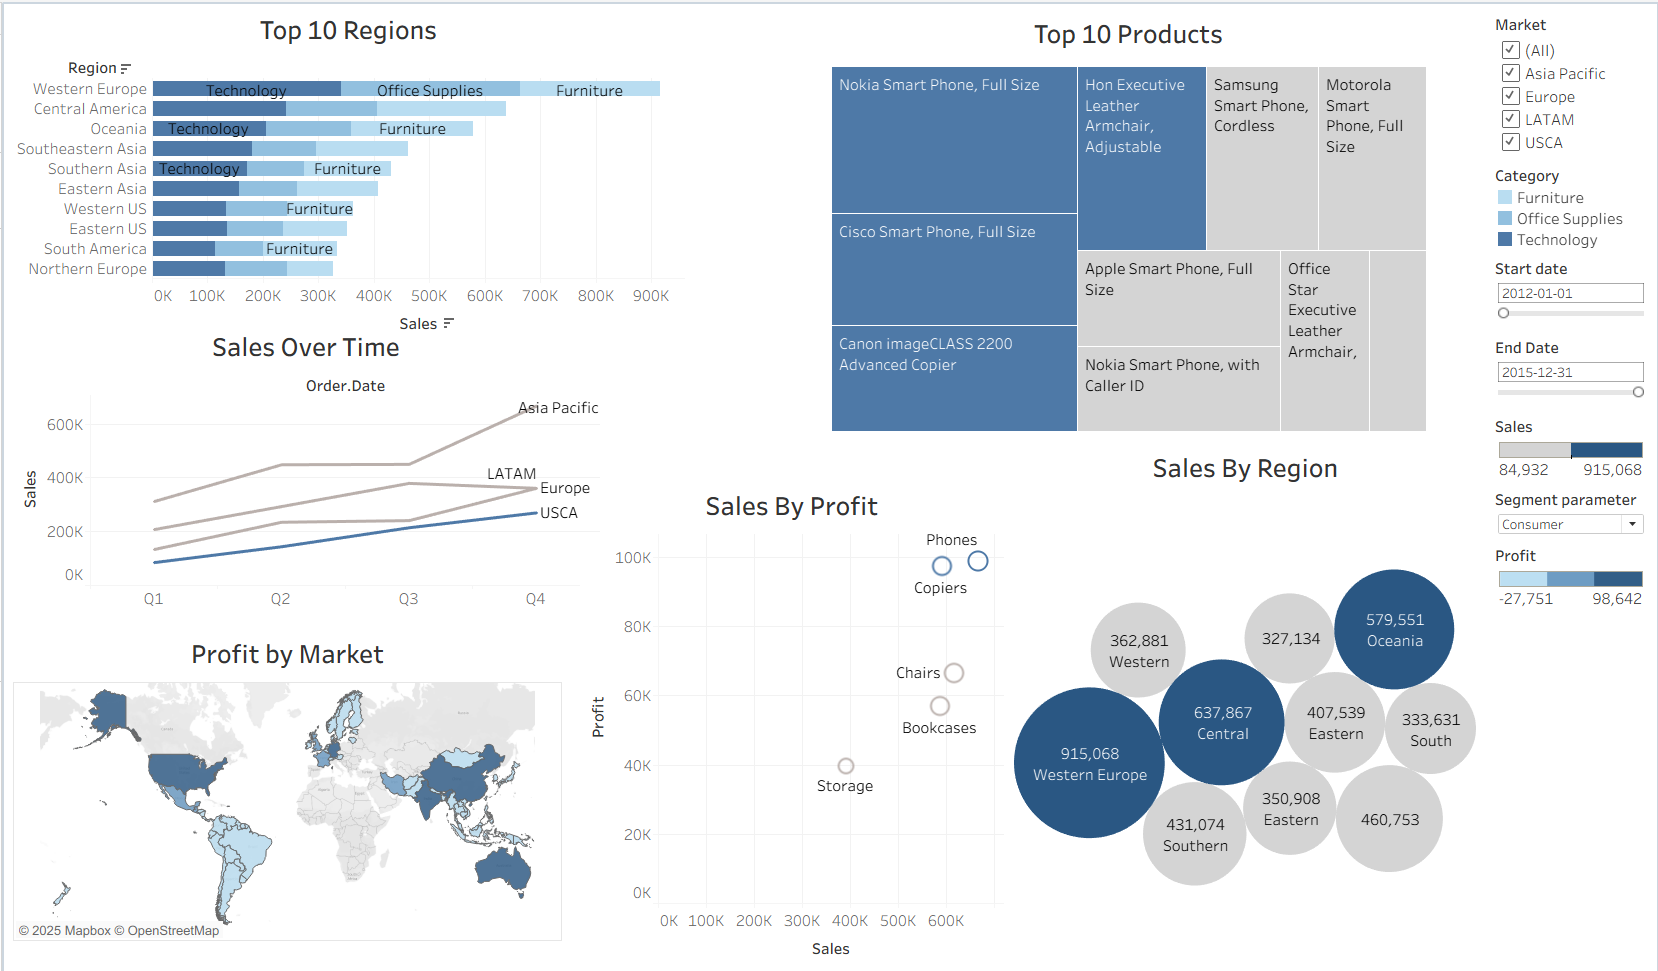

Layout of this report page (visuals, bound fields, positions):
{"tool":"tableau","page":{"name":"Dashboard","canvas":[1000,1000],"units":"permille","ordinal":0},"visuals":[{"type":"worksheet","title":"Top 10 Regions","mark":"Automatic","rows":["Region"],"cols":["Sales"],"box":[9.1,2.1,406.2,360.4]},{"type":"worksheet","title":"Top 10 Products","mark":"Automatic","box":[461.1,10.3,389.3,436.7]},{"type":"filter","title":"Top 10 Regions","param":"[federated.197ok881fwkdbl1g8i9xt0qgekpv].[none:Market:nk]","box":[857.3,10.5,135.9,198.7]},{"type":"legend","title":"Top 10 Regions","param":"[federated.197ok881fwkdbl1g8i9xt0qgekpv].[none:Category:nk]","box":[857.3,209.2,135.9,122.4]},{"type":"parameter","param":"[Parameters].[Parameter 1]","box":[857.3,331.6,135.9,104]},{"type":"worksheet","title":"Sales Over Time","mark":"Automatic","rows":["Sales"],"cols":["Order.Date"],"box":[3,332.7,354.9,293.5]},{"type":"worksheet","title":"Sales By Region","mark":"Circle","box":[595.1,393.4,279.4,546.9]},{"type":"parameter","param":"[Parameters].[Start date (copy)_1774136801383612418]","box":[857.3,435.5,135.9,104]},{"type":"worksheet","title":"Sales By Profit","mark":"Automatic","rows":["Profit"],"cols":["Sales"],"box":[333.7,498.5,255.9,496.4]},{"type":"legend","title":"Sales By Region","param":"[federated.197ok881fwkdbl1g8i9xt0qgekpv].[sum:Sales:qk]","box":[857.3,539.5,135.9,96.1]},{"type":"parameter","param":"[Parameters].[Parameter 2]","box":[857.3,635.6,135.9,73.7]},{"type":"worksheet","title":"Profit by Market","mark":"Automatic","box":[0.6,648.8,331.3,318.2]},{"type":"legend","title":"Profit by Market","param":"[federated.197ok881fwkdbl1g8i9xt0qgekpv].[sum:Profit:qk]","box":[857.3,709.2,135.9,96.1]}]}

Visuals, with their boxes on the dashboard's canvas, which has no fixed pixel size, in thousandths of its width and height (x1, y1, x2, y2). These are canvas units, not pixel positions in the 1658x971 screenshot, which may show the page scaled, cropped or inside an application window:
"Top 10 Regions" worksheet: [x1=9, y1=2, x2=415, y2=362]
"Top 10 Products" worksheet: [x1=461, y1=10, x2=850, y2=447]
"Top 10 Regions" filter: [x1=857, y1=10, x2=993, y2=209]
"Top 10 Regions" legend: [x1=857, y1=209, x2=993, y2=332]
parameter: [x1=857, y1=332, x2=993, y2=436]
"Sales Over Time" worksheet: [x1=3, y1=333, x2=358, y2=626]
"Sales By Region" worksheet (Circle marks): [x1=595, y1=393, x2=874, y2=940]
parameter: [x1=857, y1=436, x2=993, y2=540]
"Sales By Profit" worksheet: [x1=334, y1=498, x2=590, y2=995]
"Sales By Region" legend: [x1=857, y1=540, x2=993, y2=636]
parameter: [x1=857, y1=636, x2=993, y2=709]
"Profit by Market" worksheet: [x1=1, y1=649, x2=332, y2=967]
"Profit by Market" legend: [x1=857, y1=709, x2=993, y2=805]
